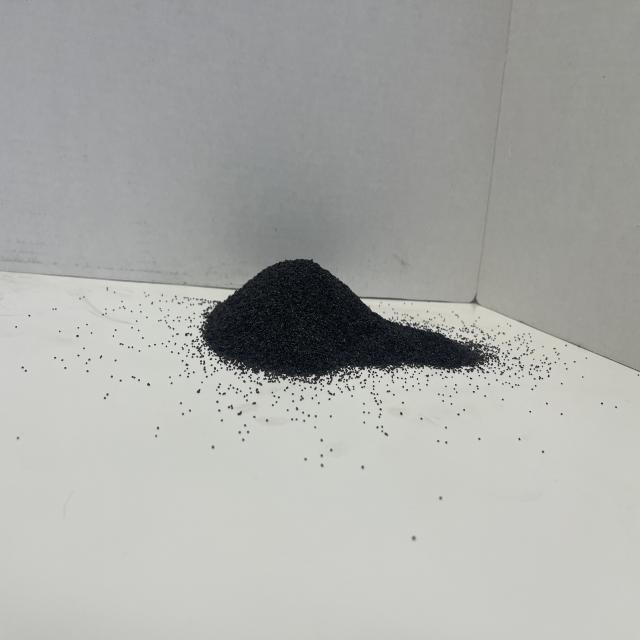Poppy Seeds: (198, 247, 474, 394)
